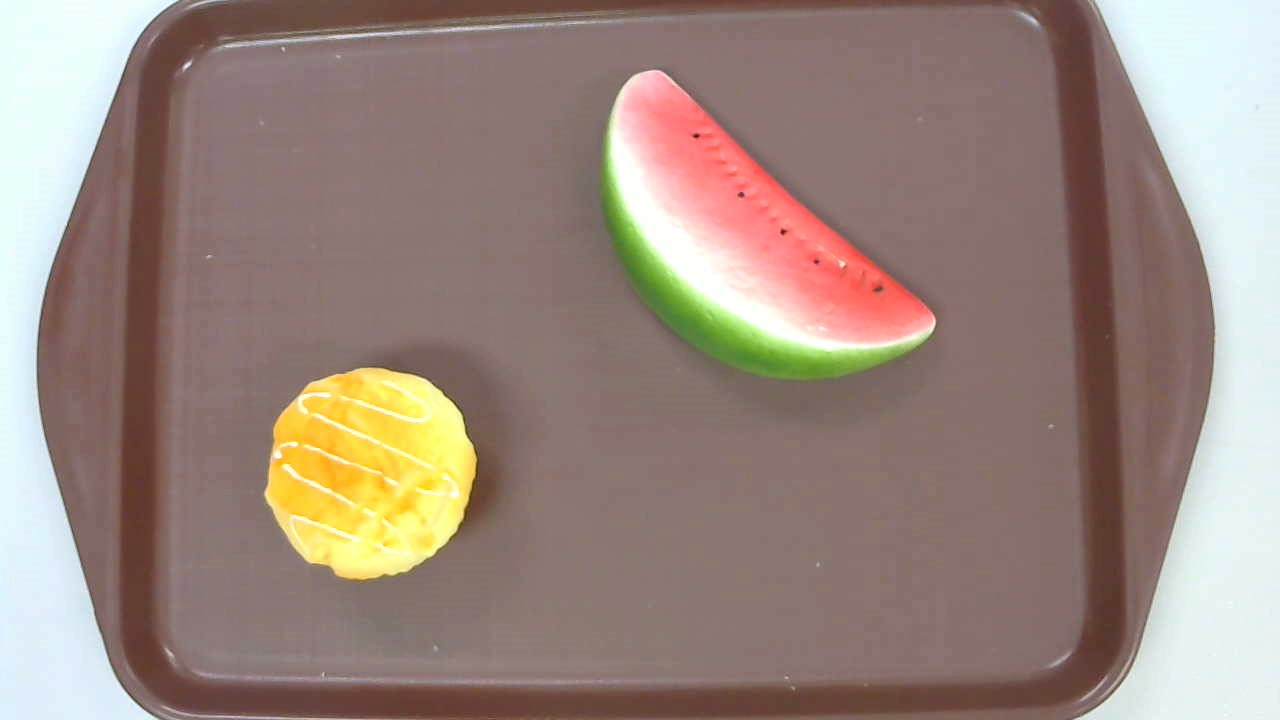cupcake: (263, 366, 478, 579)
water melon: (599, 68, 937, 381)
